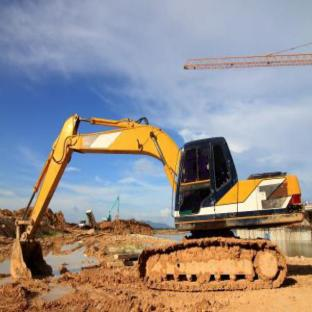ExcavationMachinery: (14, 106, 308, 302)
